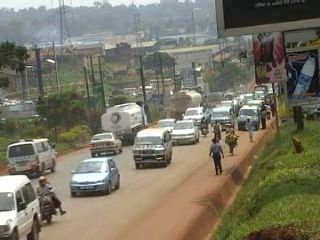Car: (0, 171, 44, 237), (66, 153, 122, 201), (82, 130, 125, 161), (168, 119, 201, 147), (179, 104, 206, 128), (155, 116, 177, 134)
Motorcycle: (31, 167, 67, 224), (197, 114, 212, 136)
